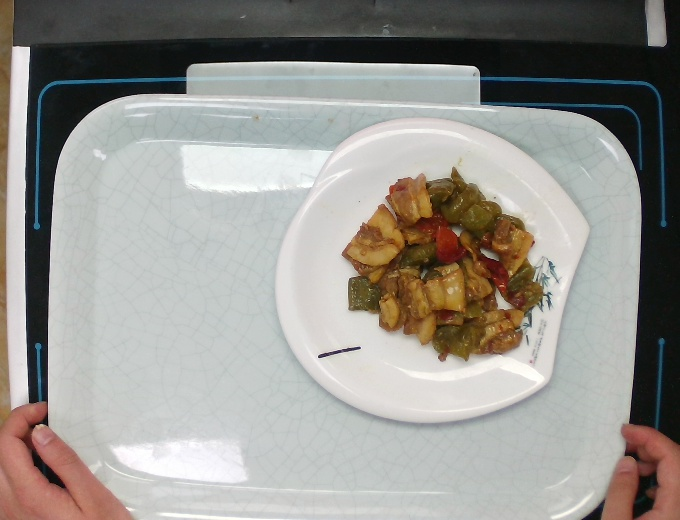JYsf-Mian_Pan: (268, 111, 593, 430)
